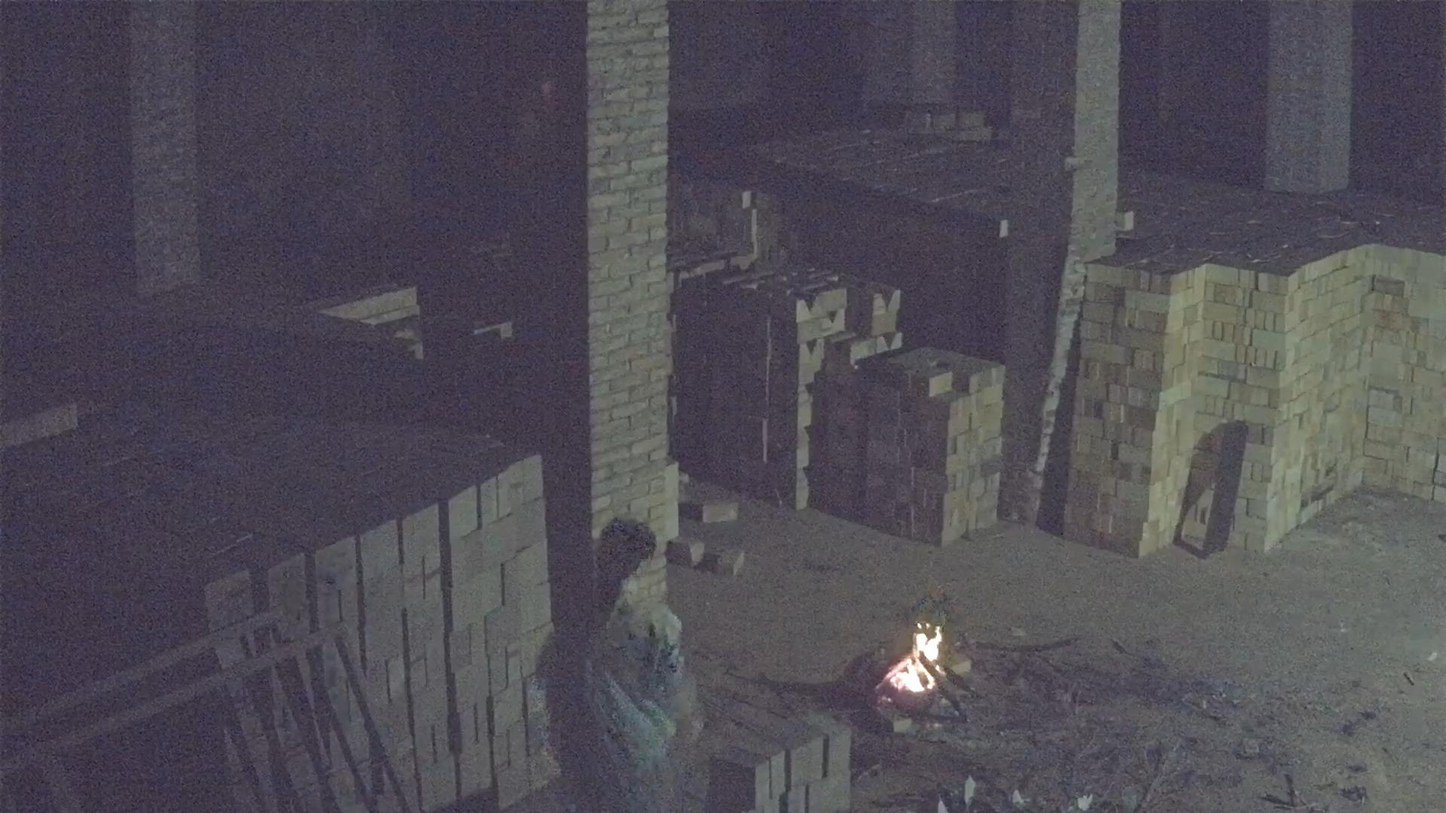fire: (888, 656, 935, 693)
